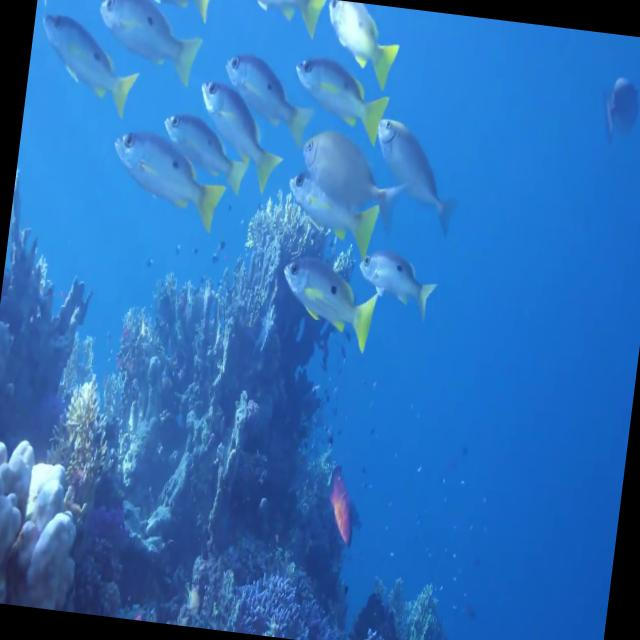fish: (290, 122, 416, 243), (102, 129, 231, 236), (363, 110, 462, 242), (33, 13, 141, 117), (190, 76, 282, 196), (90, 0, 206, 94), (217, 38, 316, 144), (275, 252, 381, 348), (288, 52, 390, 138), (158, 106, 253, 196), (352, 245, 442, 322)
